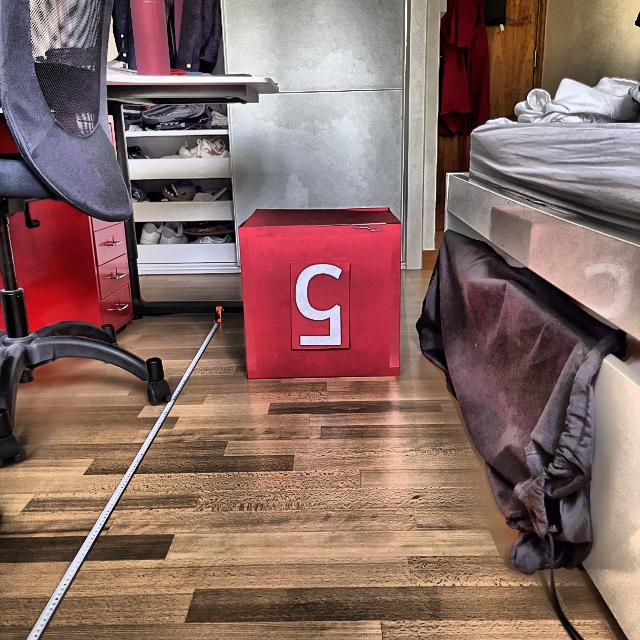red box: (236, 205, 405, 380), (295, 262, 346, 348)
